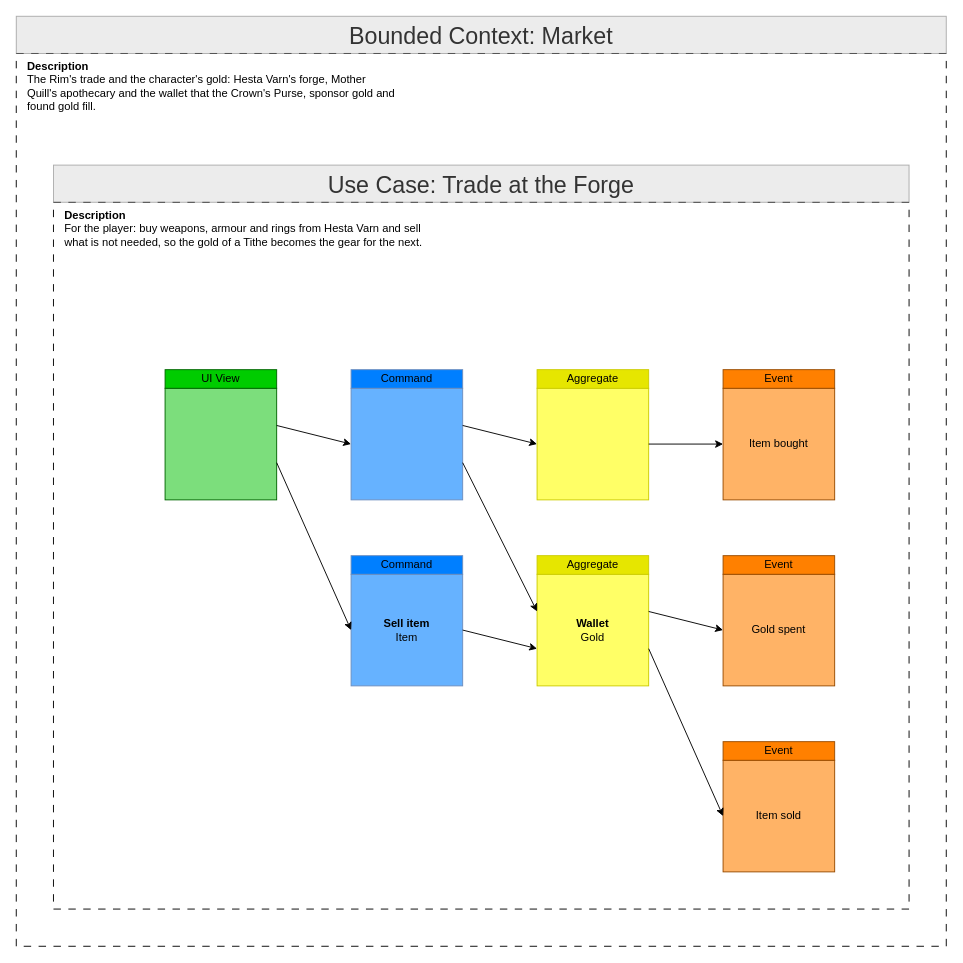
Some shapes in this 963 by 963 pixel diagram are drawn without their labels. The shapes that lost their labels are listed below. From the top down, each one's centre as x and y in pixels, then its label:
At point 220,443: "Forge Player".
At point 406,443: "Buy item Item".
At point 592,443: "Forge Stock (many) · Item · Price".
